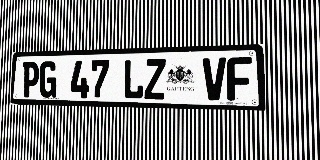4: (70, 60, 90, 98)
7: (90, 60, 109, 99)
F: (227, 57, 252, 101)
G: (39, 61, 57, 98)
L: (123, 59, 144, 99)
P: (22, 61, 40, 98)
V: (203, 57, 226, 101)
Z: (144, 59, 166, 100)
